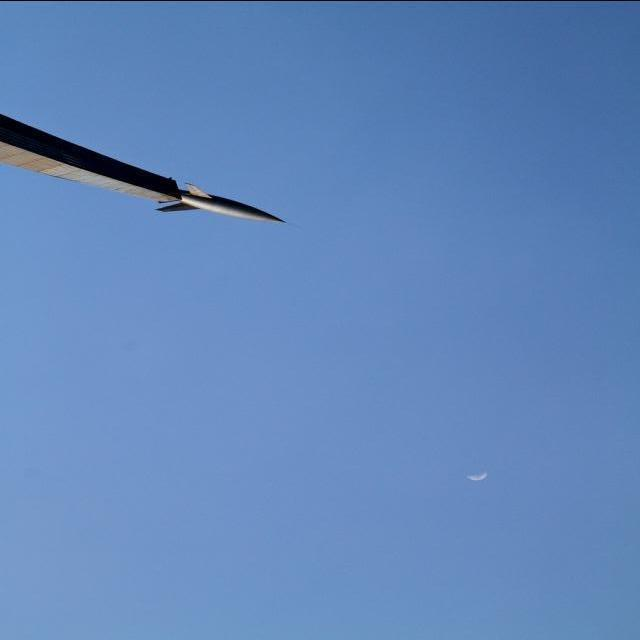missile: (166, 183, 282, 229)
